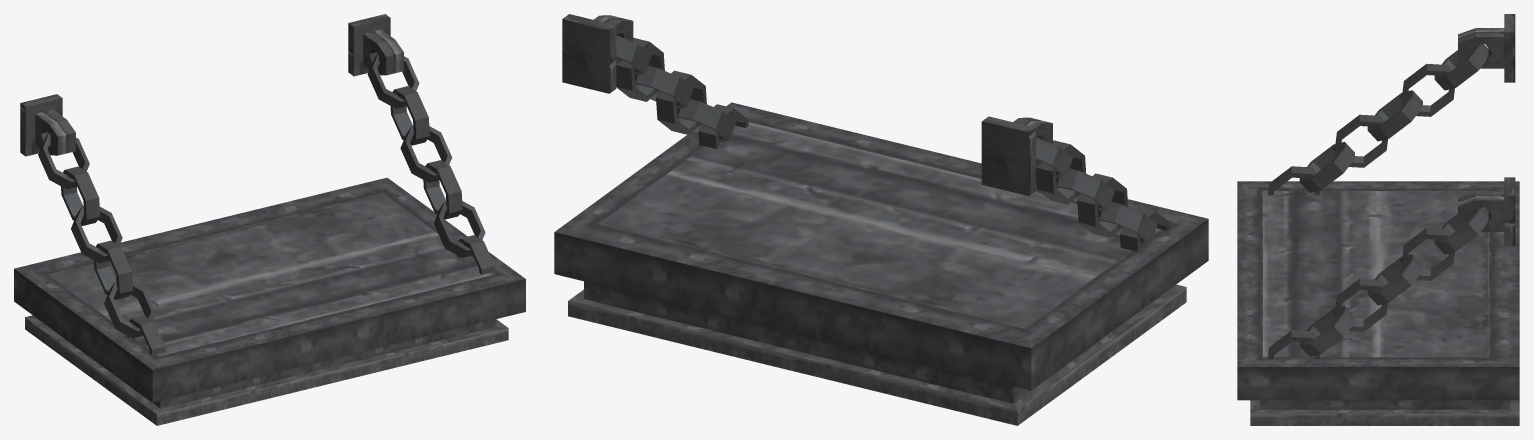
Rendered from prison-bed-01.fbx.
The picture shows the model from 3 angles, left to right: view 1: azimuth 30°, elevation 25°; view 2: azimuth 150°, elevation 25°; view 3: azimuth 270°, elevation 25°; orthographic projection. The views are drawn at different scales.
Visible parts, largest first — view 1: Cube.244; view 2: Cube.244; view 3: Cube.244.
Part boxes in pixels (<box>): Cube.244: <box>14,14,525,425</box>; Cube.244: <box>554,14,1208,425</box>; Cube.244: <box>1237,14,1519,425</box>.
Size of the model in its own units: 2 by 1.17 by 1.29.
